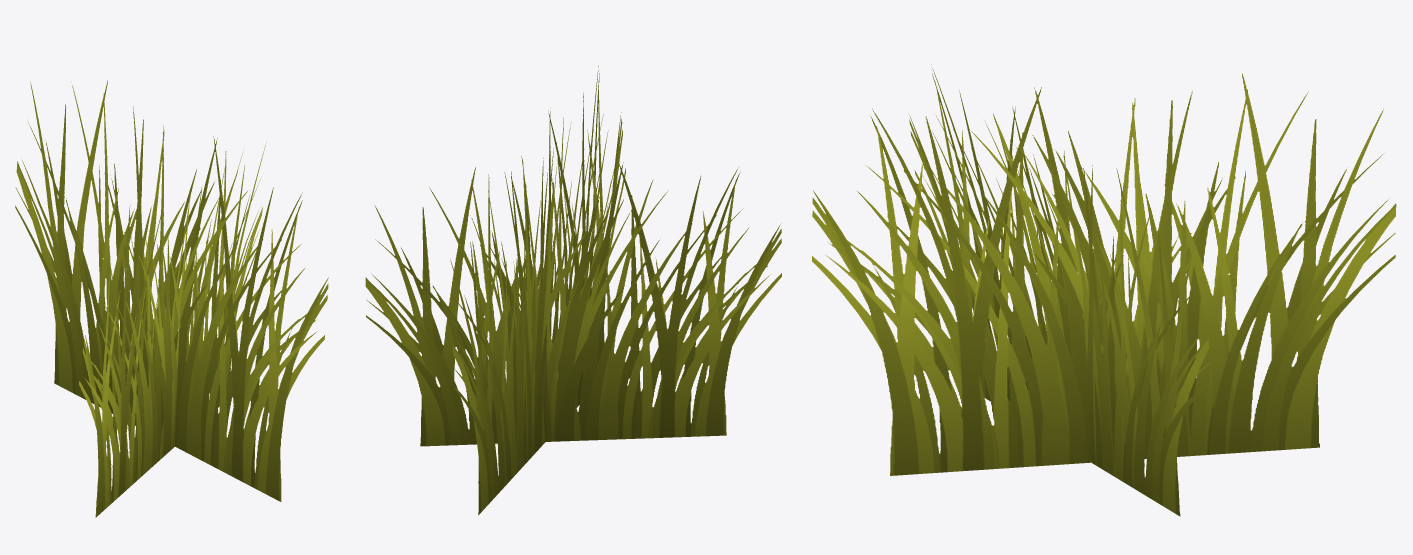
The model's file is grass_3_burnt1.glb.
3 renders of one model, left to right at view 1: azimuth 30°, elevation 25°; view 2: azimuth 150°, elevation 25°; view 3: azimuth 270°, elevation 25°, orthographic. The views are drawn at different scales.
Visible parts, largest first — view 1: grass_3_burnt1; view 2: grass_3_burnt1; view 3: grass_3_burnt1.
Boxes of the visible parts, x1,y1,x2,y2 form: grass_3_burnt1: (15,80,328,517); grass_3_burnt1: (365,65,781,515); grass_3_burnt1: (812,64,1396,516).
Size of the model in its own units: 0.4327 by 0.4482 by 0.5752.
1 material, 1 textured.
